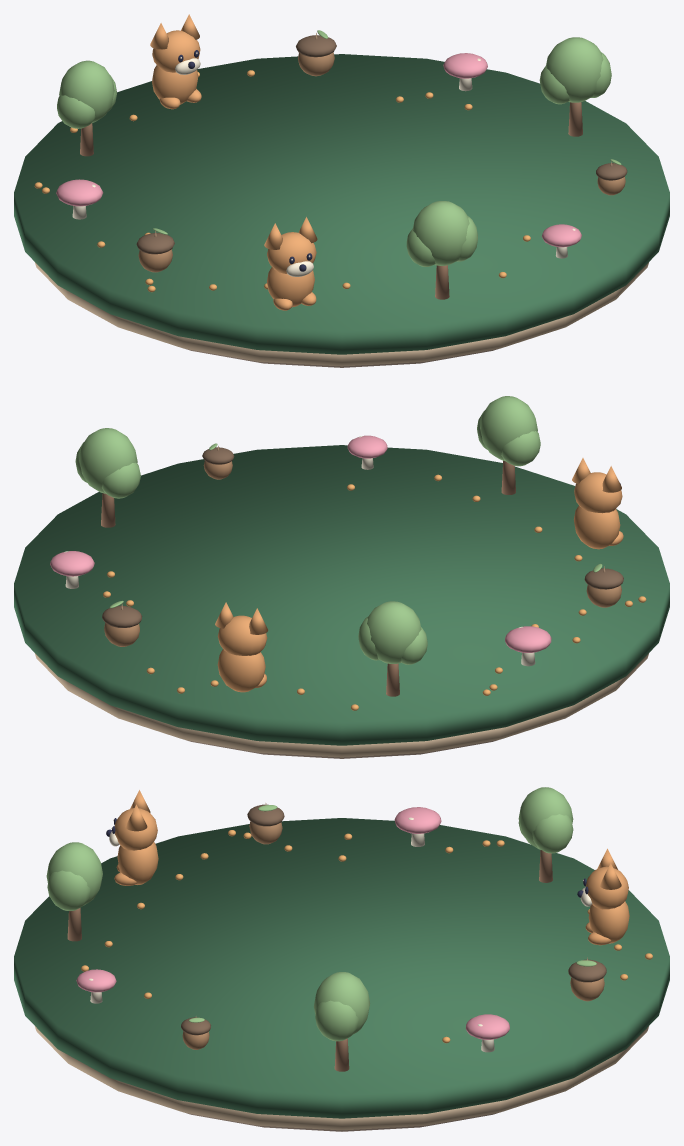
File: world.glb
3 views of the same model, one above another, from view 1: azimuth 30°, elevation 25°; view 2: azimuth 150°, elevation 25°; view 3: azimuth 270°, elevation 25° (orthographic).
Parts seen in each view (by area): view 1: Cone, Cone.001, tree.001, tree.003, fox.002, fox.001, tree.002, acorn.001, acorn.002, mushroom.002, mushroom.001, mushroom.003 (+2 smaller); view 2: Cone, Cone.001, tree.001, tree.002, tree.003, fox.001, fox.002, acorn.001, acorn.002, mushroom.002, mushroom.001, mushroom.003 (+2 smaller); view 3: Cone, Cone.001, tree.001, tree.003, fox.002, tree.002, fox.001, acorn.001, acorn.002, mushroom.002, mushroom.001, mushroom.003 (+2 smaller).
Part boxes in pixels (x1,y1,x2,y2): Cone: [14, 54, 669, 354]; Cone.001: [35, 262, 648, 366]; tree.001: [539, 37, 611, 136]; tree.003: [406, 201, 477, 299]; fox.002: [264, 217, 317, 310]; fox.001: [150, 14, 201, 109]; tree.002: [57, 60, 116, 156]; acorn.001: [296, 30, 336, 76]; acorn.002: [136, 228, 174, 272]; mushroom.002: [56, 179, 103, 219]; mushroom.001: [443, 53, 487, 91]; mushroom.003: [541, 224, 581, 258]; Cone: [14, 445, 669, 745]; Cone.001: [35, 653, 648, 757]; tree.001: [75, 428, 140, 527]; tree.002: [358, 601, 427, 696]; tree.003: [477, 396, 540, 494]; fox.001: [215, 602, 268, 692]; fox.002: [572, 458, 623, 549]; acorn.001: [102, 600, 142, 646]; acorn.002: [584, 563, 623, 607]; mushroom.002: [505, 626, 551, 666]; mushroom.001: [50, 551, 94, 588]; mushroom.003: [347, 435, 387, 469]; Cone: [14, 818, 669, 1118]; Cone.001: [35, 1026, 648, 1130]; tree.001: [313, 972, 370, 1071]; tree.003: [46, 842, 102, 941]; fox.002: [106, 790, 158, 885]; tree.002: [518, 787, 573, 882]; fox.001: [577, 848, 629, 945]; acorn.001: [568, 957, 606, 1001]; acorn.002: [247, 803, 284, 844]; mushroom.002: [394, 807, 441, 846]; mushroom.001: [465, 1014, 509, 1052]; mushroom.003: [76, 969, 116, 1003].
Bounding box in the file's own units: 9.6 × 2.32 × 9.6.
